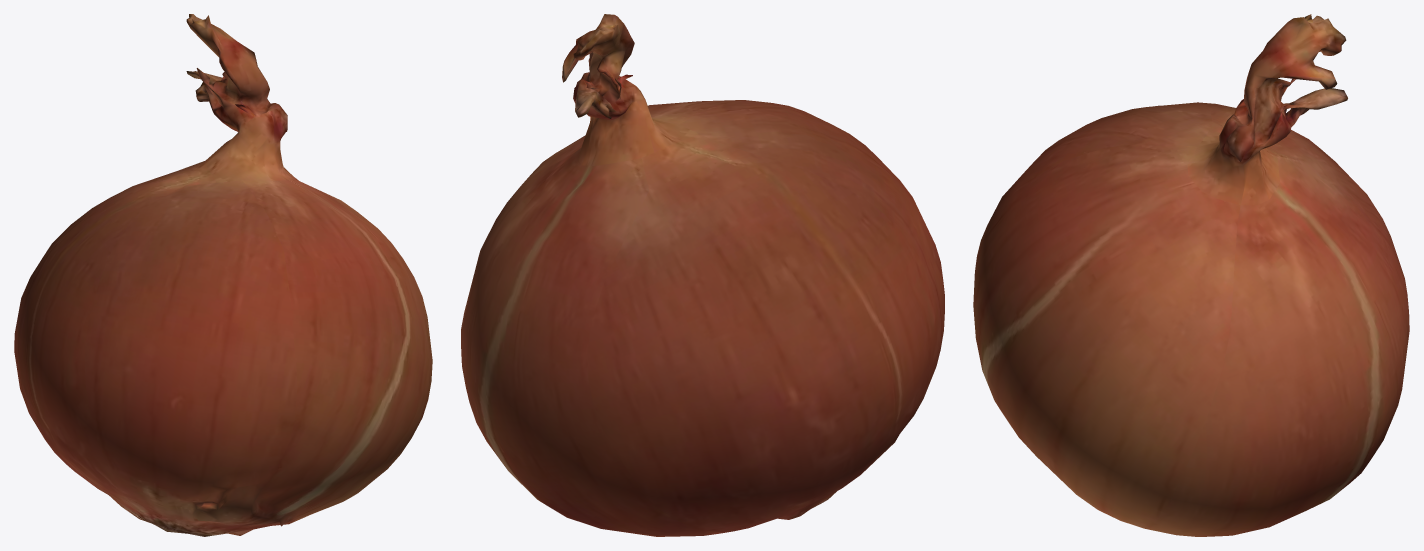
Rendered from yellow_onion.glb.
3 renders of one model, left to right at view 1: azimuth 30°, elevation 25°; view 2: azimuth 150°, elevation 25°; view 3: azimuth 270°, elevation 25°, orthographic. The views are drawn at different scales.
Parts seen in each view (by area): view 1: yellow_onion; view 2: yellow_onion; view 3: yellow_onion.
Part boxes in pixels (x1,y1,x2,y2): yellow_onion: [14, 14, 432, 536]; yellow_onion: [461, 14, 944, 536]; yellow_onion: [973, 14, 1409, 536].
Bounding box in the file's own units: 0.0725 × 0.0864 × 0.0686.
Materials: 1 (1 with a texture image).
